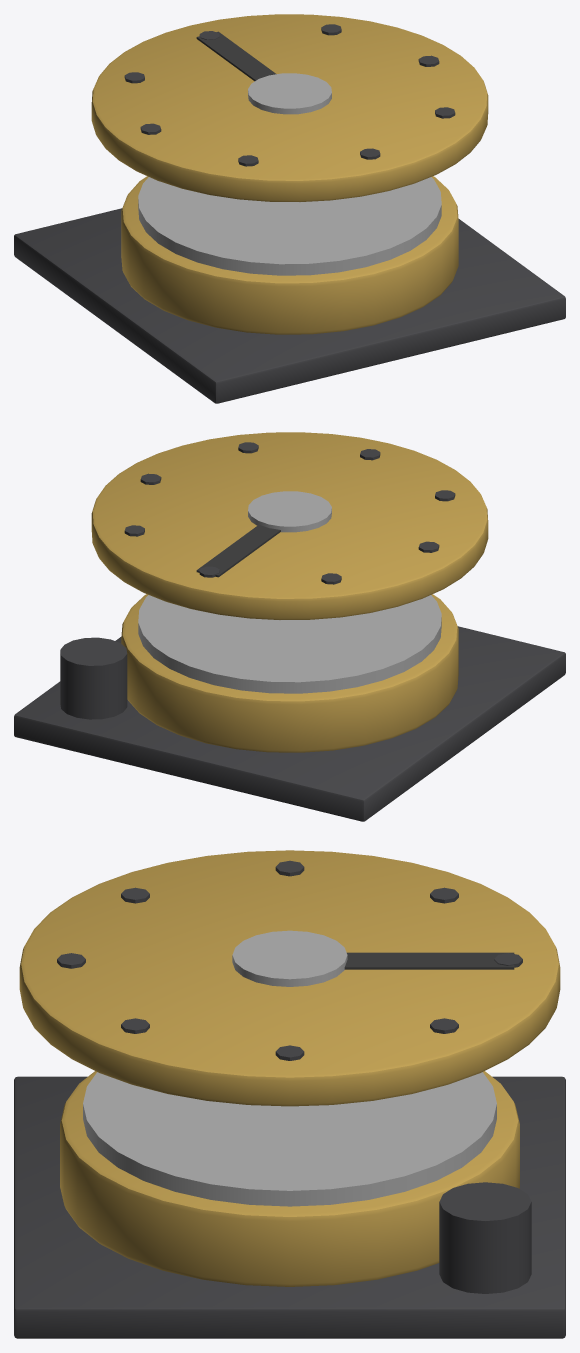
File: rotor.glb
The picture shows the model from 3 angles, top to bottom: view 1: azimuth 30°, elevation 25°; view 2: azimuth 150°, elevation 25°; view 3: azimuth 270°, elevation 25°; orthographic projection. The views are drawn at different scales.
Visible parts, largest first — view 1: Part, Top; view 2: Part, Top; view 3: Part, Top.
Boxes of the visible parts, <box> form: Part: <box>14,176,565,403</box>; Top: <box>91,14,488,201</box>; Part: <box>14,594,565,821</box>; Top: <box>91,432,488,619</box>; Part: <box>14,1071,565,1338</box>; Top: <box>19,850,560,1106</box>.
Size of the model in its own units: 0.96 by 0.528 by 0.96.
